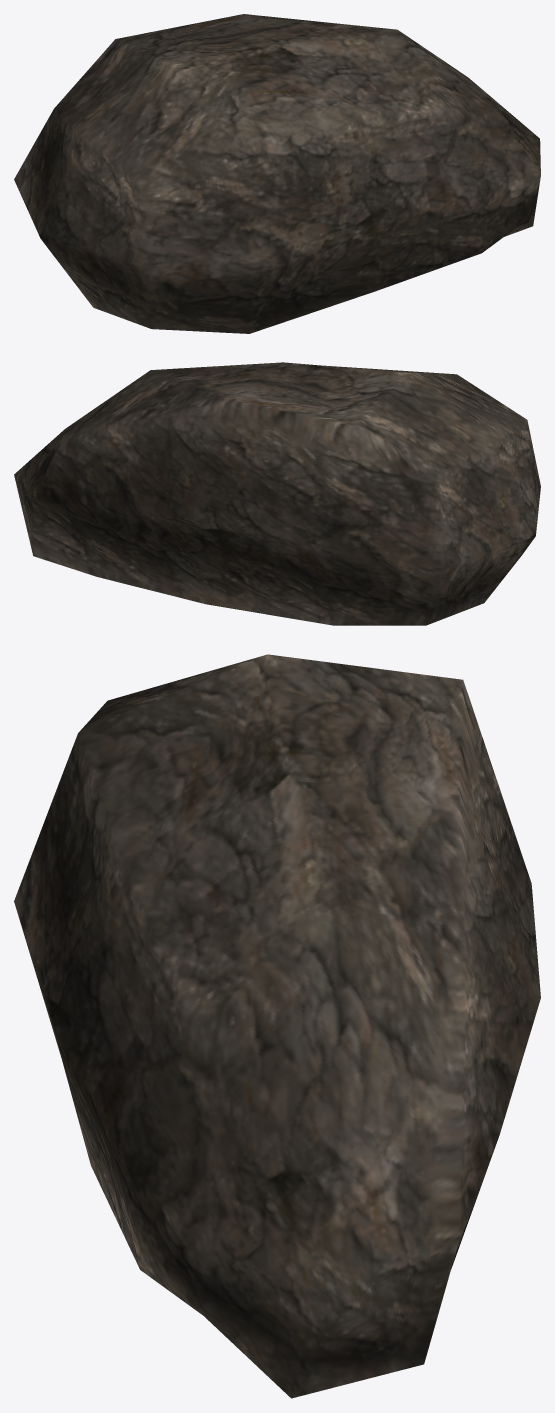
File: Rock_02.glb
3 views of the same model, one above another, from view 1: azimuth 30°, elevation 25°; view 2: azimuth 150°, elevation 25°; view 3: azimuth 270°, elevation 25° (orthographic). The views are drawn at different scales.
Visible parts, largest first — view 1: Rock_02.001; view 2: Rock_02.001; view 3: Rock_02.001.
Boxes of the visible parts, x1=… form: Rock_02.001: x1=14, y1=14, x2=540, y2=333; Rock_02.001: x1=14, y1=362, x2=540, y2=625; Rock_02.001: x1=14, y1=654, x2=540, y2=1398.
Size of the model in its own units: 6.06 by 2.96 by 3.08.
1 material, 1 textured.
